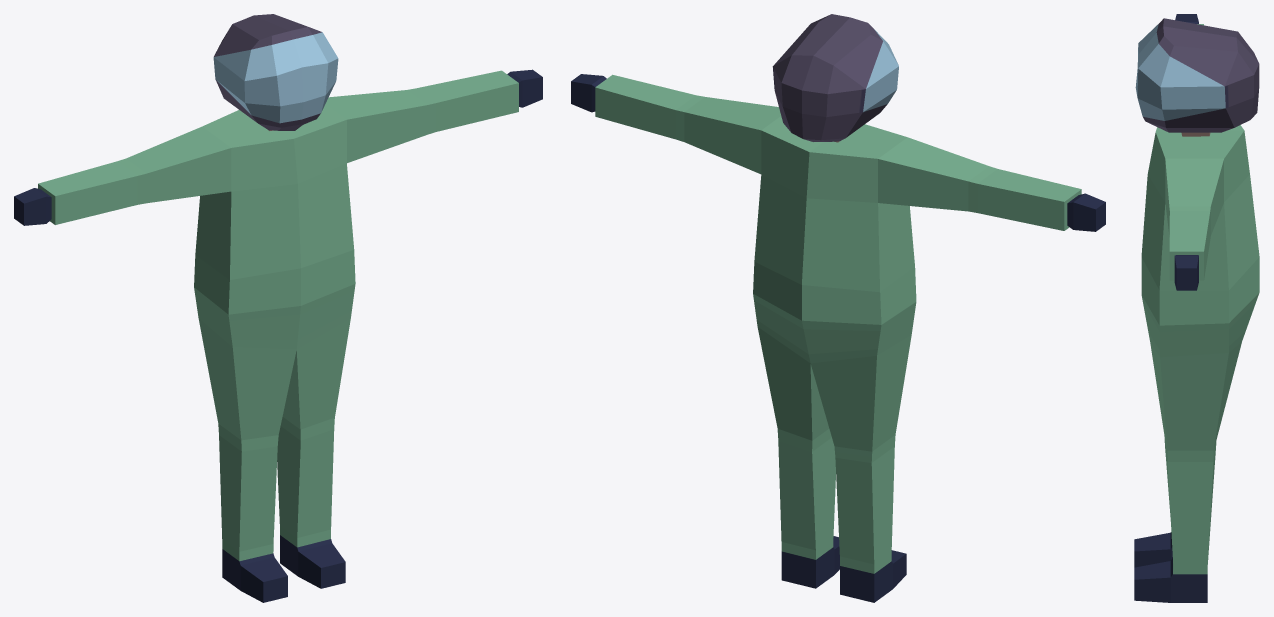
The model's file is Enemy-runner.fbx.
3 renders of one model, left to right at view 1: azimuth 30°, elevation 25°; view 2: azimuth 150°, elevation 25°; view 3: azimuth 270°, elevation 25°, orthographic.
Visible parts, largest first — view 1: Runner; view 2: Runner; view 3: Runner.
Boxes of the visible parts, x1,y1,x2,y2 form: Runner: [14, 14, 542, 602]; Runner: [571, 14, 1105, 602]; Runner: [1134, 14, 1259, 602].
Bounding box in the file's own units: 178 × 181 × 37.
